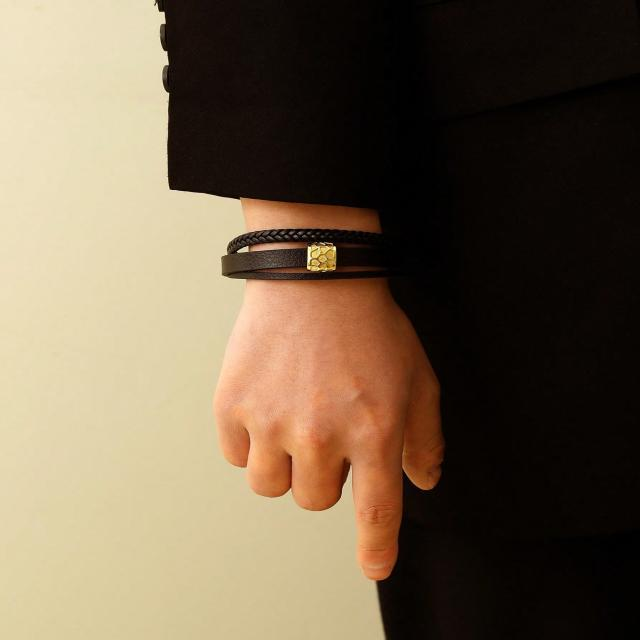Nail: (364, 564, 392, 579), (428, 468, 440, 485)
